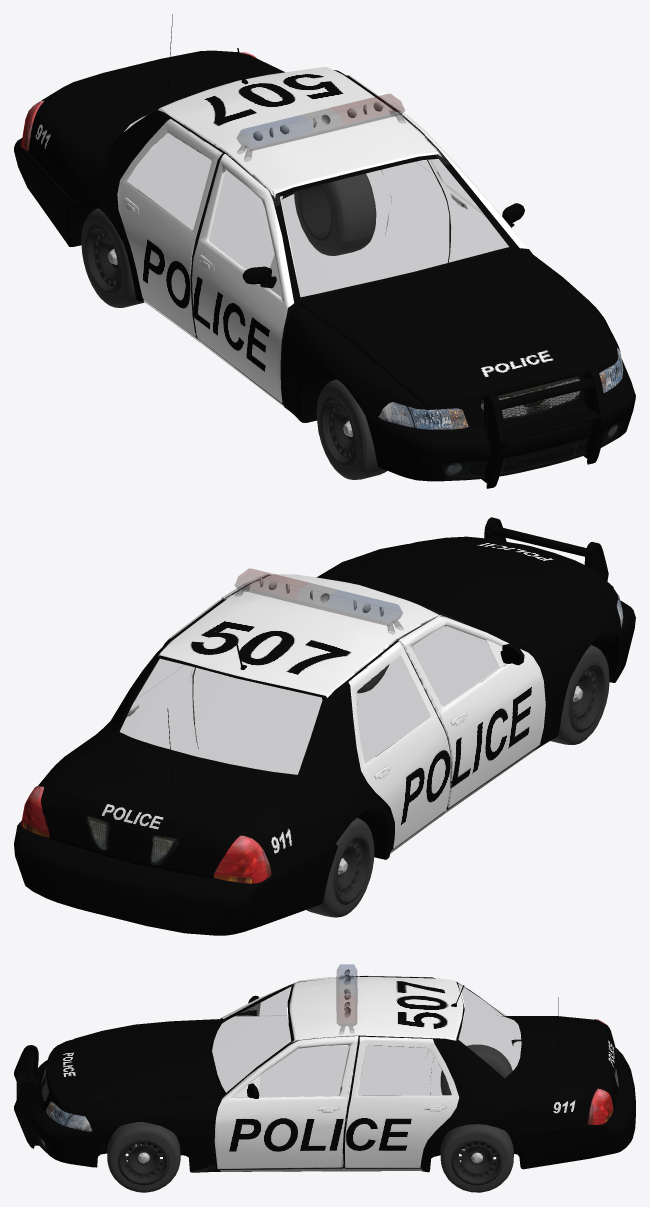
File: car_police.glb
3 renders of one model, top to bottom at view 1: azimuth 30°, elevation 25°; view 2: azimuth 150°, elevation 25°; view 3: azimuth 270°, elevation 25°, orthographic. The views are drawn at different scales.
Visible parts, largest first — view 1: body, glass, wheel, roof_light_bar; view 2: body, glass, wheel, roof_light_bar; view 3: body, glass, wheel, roof_light_bar.
Part boxes in pixels (x1,y1,x2,y2): body: [14, 14, 635, 488]; glass: [125, 111, 508, 296]; wheel: [81, 173, 386, 479]; roof_light_bar: [237, 94, 405, 161]; body: [14, 517, 635, 935]; glass: [120, 607, 498, 774]; wheel: [306, 644, 609, 917]; roof_light_bar: [235, 568, 403, 634]; body: [14, 975, 635, 1172]; glass: [212, 984, 521, 1097]; wheel: [107, 1044, 513, 1192]; roof_light_bar: [336, 964, 357, 1034].
Bounding box in the file's own units: 1.7 × 1.36 × 4.6.
Materials: 6 (4 with a texture image).
